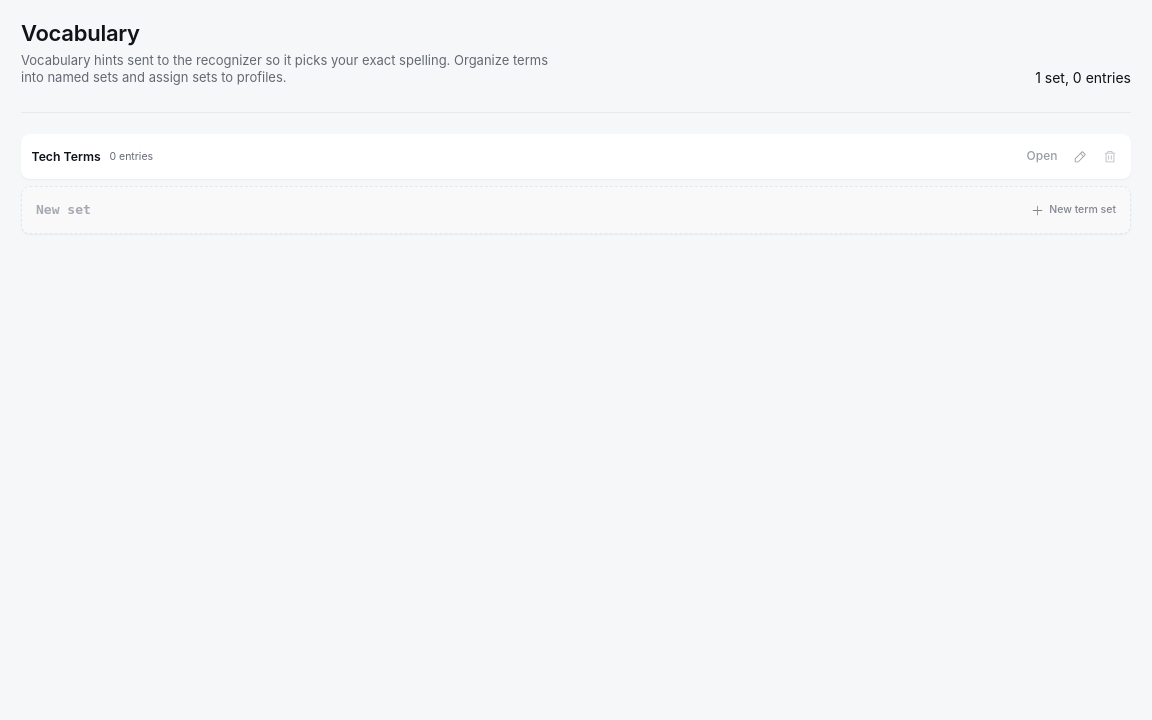
Test: TermsPage – vocabulary-specific › shows affected profile names from term_set_ids
The image size is (1152, 720).
Click the button named "Delete set": (1110, 156) [1096,142,1124,170]
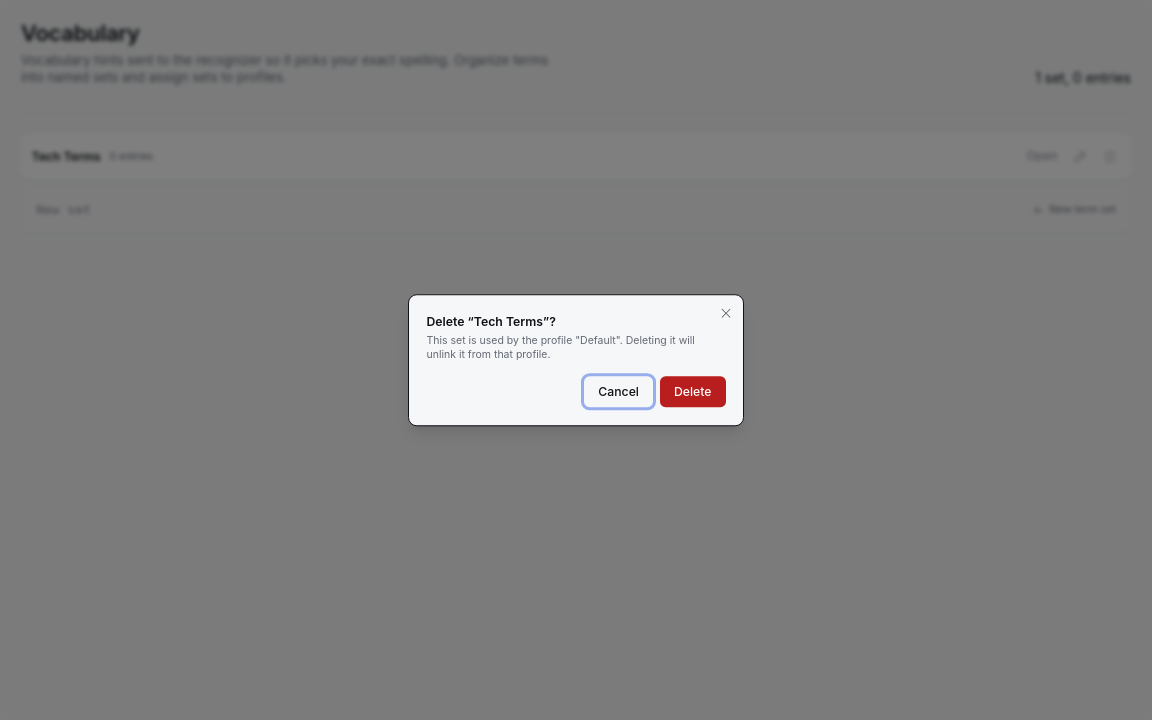
Check: the text "Default" is shown, box [522,334,620,347]
